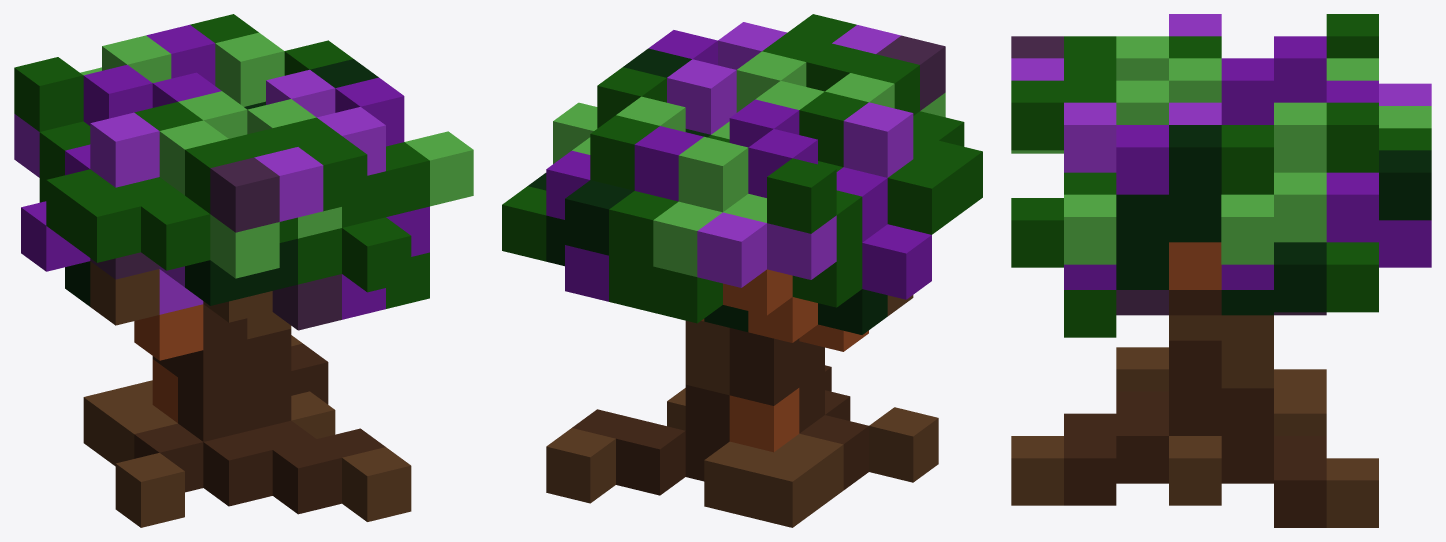
The model's file is Lyander_Anthony_Hernández_Acosta_fase_2.obj.
3 views of the same model, side by side, from view 1: azimuth 30°, elevation 25°; view 2: azimuth 150°, elevation 25°; view 3: azimuth 270°, elevation 25° (orthographic). The views are drawn at different scales.
Visible parts, largest first — view 1: Lyander_Anthony_Hernández_Acosta_fase_2; view 2: Lyander_Anthony_Hernández_Acosta_fase_2; view 3: Lyander_Anthony_Hernández_Acosta_fase_2.
Boxes of the visible parts, x1=… form: Lyander_Anthony_Hernández_Acosta_fase_2: x1=14, y1=14, x2=473, y2=527; Lyander_Anthony_Hernández_Acosta_fase_2: x1=502, y1=14, x2=982, y2=527; Lyander_Anthony_Hernández_Acosta_fase_2: x1=1011, y1=14, x2=1431, y2=527.
Bounding box in the file's own units: 8 × 8 × 8.
1 material, 1 textured.
